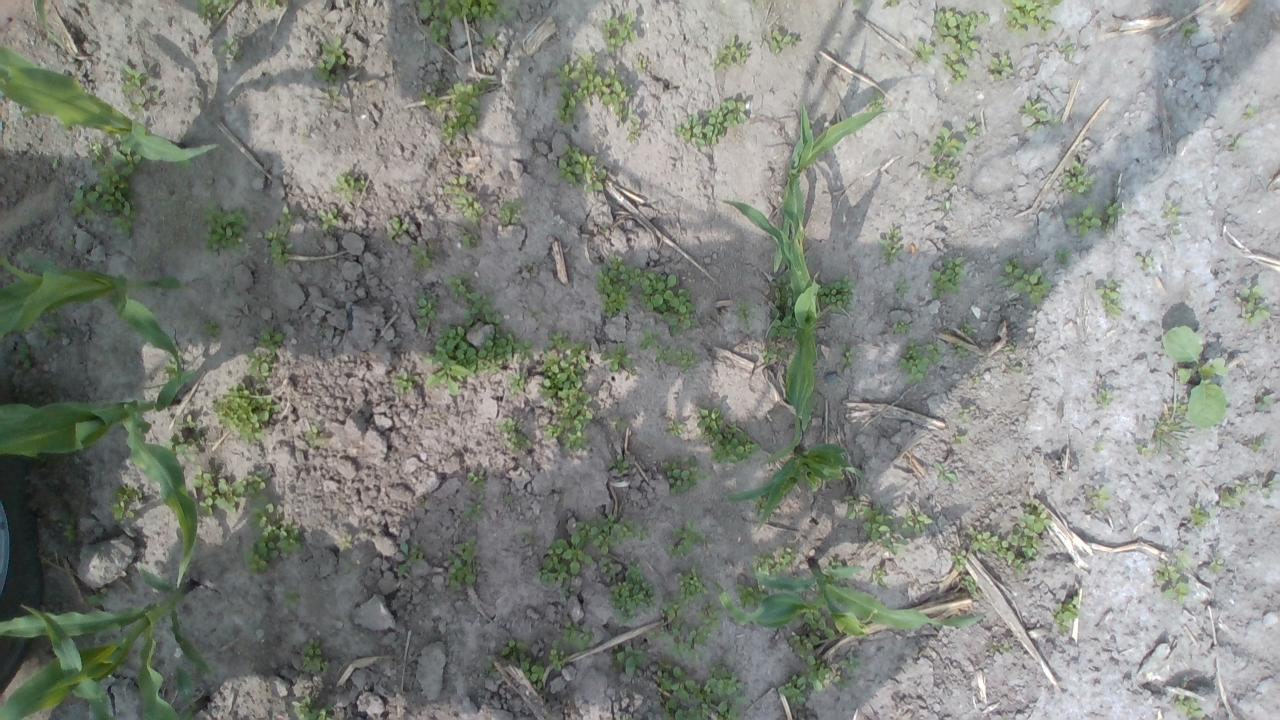Maize: (0, 366, 210, 592), (0, 562, 218, 720), (719, 195, 822, 466), (0, 40, 218, 164), (705, 558, 985, 638), (23, 597, 205, 720), (0, 252, 188, 369), (772, 102, 886, 272), (721, 441, 869, 532), (32, 0, 177, 63)
Weeds: (1162, 322, 1235, 432), (68, 135, 140, 239), (550, 49, 640, 127), (540, 330, 596, 452), (654, 662, 746, 720), (242, 501, 306, 575), (210, 382, 281, 444), (637, 268, 699, 337), (421, 324, 478, 398), (842, 494, 908, 556), (532, 531, 594, 597), (600, 556, 656, 627), (696, 406, 760, 465), (674, 99, 748, 148), (442, 270, 504, 327), (439, 78, 491, 144), (966, 524, 1028, 578), (778, 662, 851, 706), (931, 7, 990, 61), (576, 512, 648, 556), (594, 253, 642, 318), (198, 198, 250, 257), (918, 126, 965, 187), (190, 464, 240, 518), (1151, 544, 1194, 606), (995, 258, 1052, 304), (556, 142, 608, 192), (479, 328, 533, 376), (1000, 0, 1064, 40), (1009, 499, 1050, 559), (898, 336, 946, 386), (500, 638, 546, 690), (418, 0, 516, 24), (1152, 400, 1190, 460), (246, 328, 284, 386), (767, 272, 799, 340), (660, 454, 710, 497), (442, 174, 484, 223), (442, 534, 478, 590), (120, 64, 160, 114), (646, 595, 689, 641), (264, 204, 294, 268), (164, 413, 202, 461), (664, 518, 707, 560), (1052, 160, 1098, 198), (676, 562, 714, 606), (312, 38, 348, 84), (600, 9, 636, 54), (816, 274, 856, 314), (686, 602, 724, 644), (930, 256, 964, 300), (708, 36, 751, 70), (1236, 283, 1270, 326), (494, 416, 532, 452), (600, 344, 640, 378), (1022, 100, 1062, 133), (1052, 594, 1083, 636), (752, 546, 798, 574), (1094, 278, 1126, 318), (1068, 202, 1104, 237), (108, 485, 143, 521), (654, 344, 700, 371), (1216, 476, 1250, 510), (36, 308, 68, 344), (298, 637, 330, 672), (786, 632, 820, 664), (330, 171, 366, 201), (292, 695, 335, 720), (616, 644, 647, 678), (419, 79, 449, 114), (232, 472, 268, 501), (804, 608, 836, 640), (560, 622, 594, 652), (1173, 692, 1209, 720), (396, 542, 424, 578), (194, 0, 236, 24), (876, 227, 904, 262), (939, 52, 969, 84), (414, 292, 438, 330), (1102, 198, 1126, 234), (666, 641, 709, 661), (734, 581, 768, 606), (1186, 502, 1214, 532), (1160, 199, 1181, 238), (990, 54, 1016, 83), (768, 28, 797, 54), (460, 494, 486, 523), (904, 508, 932, 534), (732, 297, 754, 330), (216, 35, 245, 60), (909, 39, 937, 64), (548, 639, 570, 670), (933, 459, 960, 484), (316, 206, 341, 231), (1086, 486, 1112, 510), (499, 198, 522, 225), (318, 84, 346, 106), (410, 243, 434, 268), (838, 651, 862, 676), (638, 328, 665, 350), (464, 468, 491, 490), (426, 20, 449, 45), (84, 587, 111, 608), (761, 345, 789, 364), (391, 371, 415, 393), (606, 454, 632, 474), (385, 216, 408, 238), (458, 224, 478, 248), (950, 548, 970, 572), (508, 372, 528, 396), (199, 318, 223, 338), (1178, 20, 1204, 38), (162, 354, 180, 380), (866, 91, 887, 113), (840, 342, 856, 369), (304, 424, 322, 448), (15, 344, 32, 369), (1094, 387, 1114, 408), (666, 417, 686, 438), (751, 492, 770, 514), (960, 574, 980, 594), (964, 118, 982, 140), (1134, 252, 1156, 270), (608, 412, 629, 430), (954, 405, 976, 422), (625, 123, 643, 143), (1208, 557, 1226, 576), (480, 30, 499, 48), (524, 304, 543, 322), (1262, 479, 1278, 500), (252, 0, 280, 12), (872, 568, 888, 589), (1060, 39, 1078, 57), (1054, 246, 1072, 264), (895, 274, 909, 296), (953, 341, 970, 359), (283, 589, 301, 606), (987, 642, 1012, 654), (483, 655, 498, 675), (1248, 436, 1269, 450), (64, 234, 78, 255), (339, 533, 354, 551), (1254, 395, 1272, 410), (958, 321, 974, 337), (62, 523, 76, 541), (1092, 441, 1110, 454), (1242, 106, 1259, 119), (1134, 443, 1151, 456), (892, 321, 910, 333), (940, 198, 954, 212), (1228, 134, 1240, 150), (636, 54, 648, 70), (950, 433, 967, 444), (518, 528, 532, 541), (1002, 341, 1018, 352), (881, 0, 900, 9), (827, 555, 839, 566), (970, 374, 981, 384), (344, 564, 356, 573), (51, 157, 60, 169), (502, 494, 514, 502), (851, 0, 863, 6), (1014, 366, 1023, 373)
